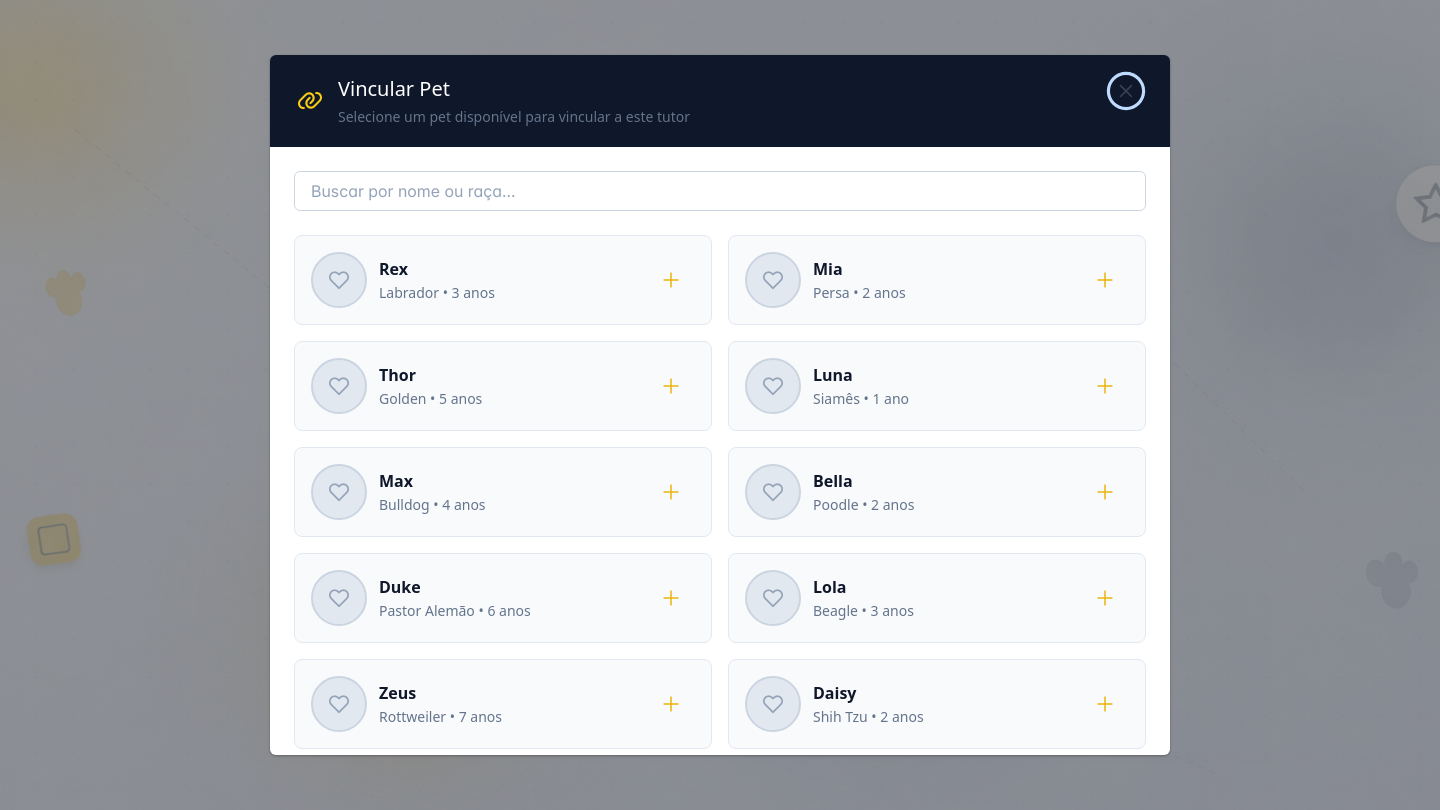
Test case: VincularPetModal › deve filtrar pets por raça
In the field with placeholder "Buscar por nome ou raça...": (720, 191) [294, 171, 1146, 211], type "Labrador"
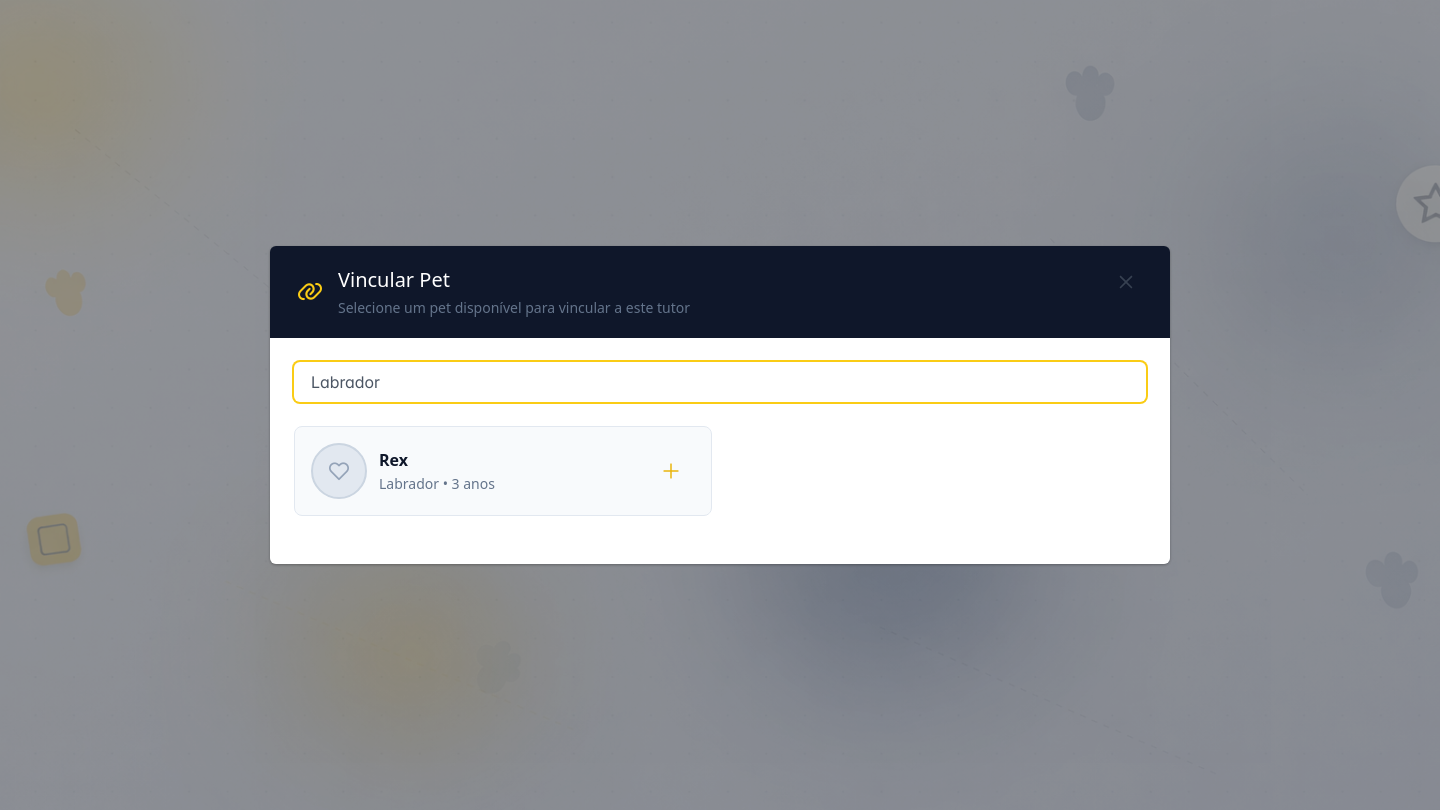
Expected: the text "Rex" is shown, [379, 449, 408, 471]
Result: the text "Mia" is gone
